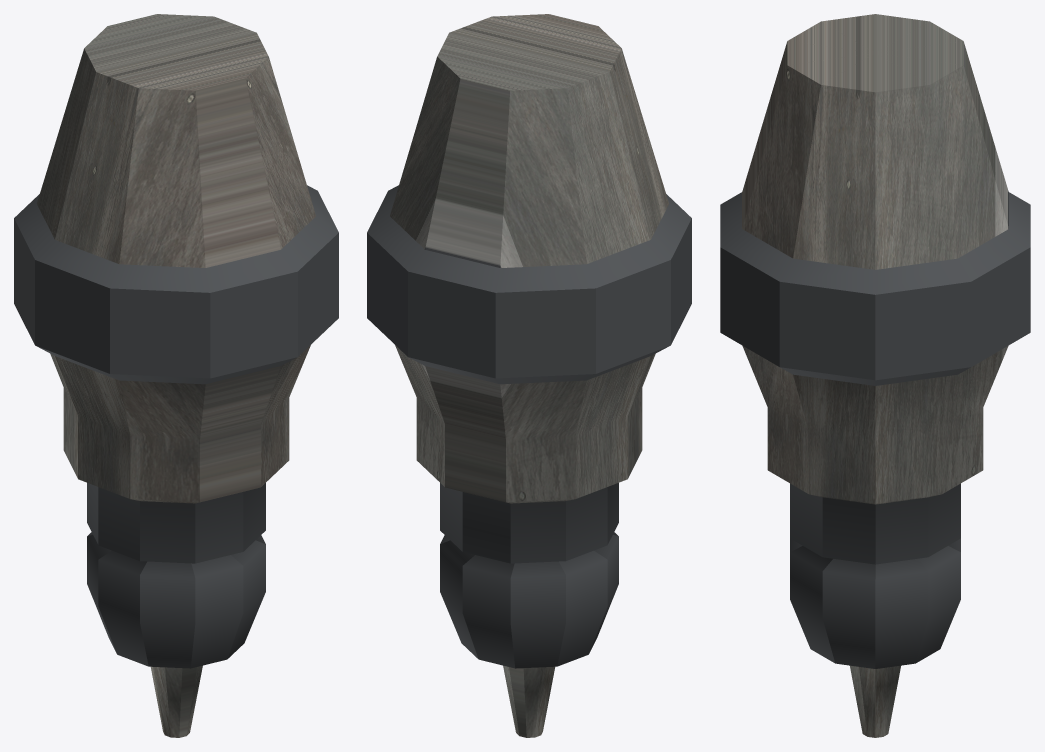
Rendered from lasergun.fbx.
3 renders of one model, left to right at view 1: azimuth 30°, elevation 25°; view 2: azimuth 150°, elevation 25°; view 3: azimuth 270°, elevation 25°, orthographic.
Visible parts, largest first — view 1: pCylinder1; view 2: pCylinder1; view 3: pCylinder1.
Part boxes in pixels (<box>): pCylinder1: <box>14,14,338,737</box>; pCylinder1: <box>367,14,691,737</box>; pCylinder1: <box>720,14,1030,737</box>.
Bounding box in the file's own units: 4.65 × 10.68 × 4.42.
1 material, 1 textured.
